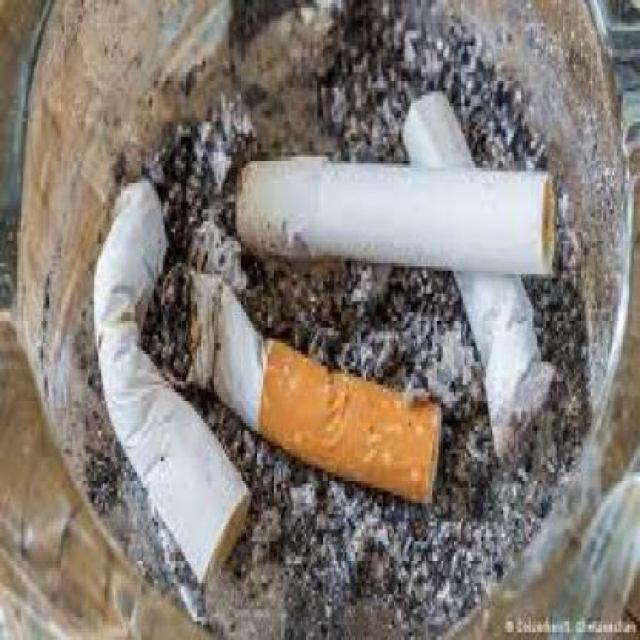cigarette: (88, 175, 272, 568), (399, 79, 563, 492), (171, 282, 449, 496), (238, 126, 554, 282)
